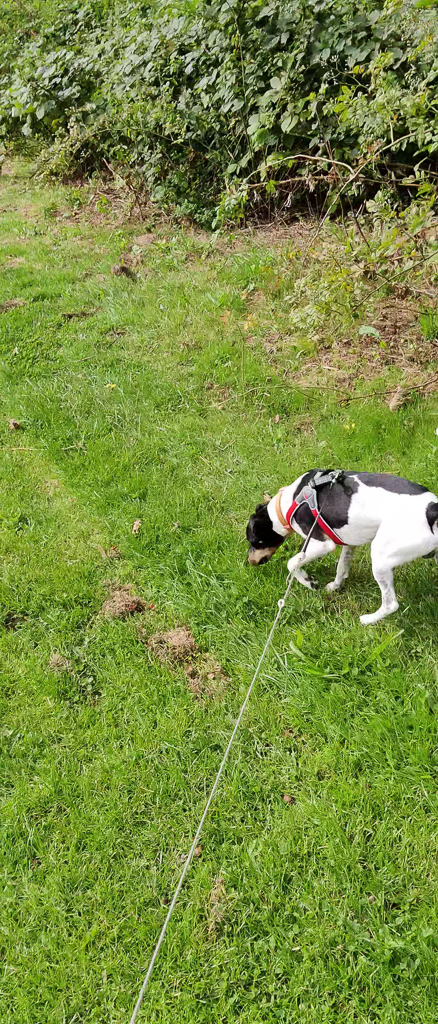Dog: (227, 451, 438, 634)
